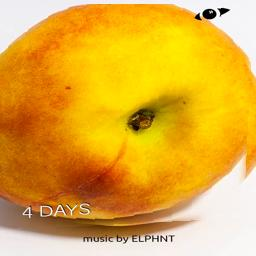Peach Fresh: (0, 5, 255, 232)
